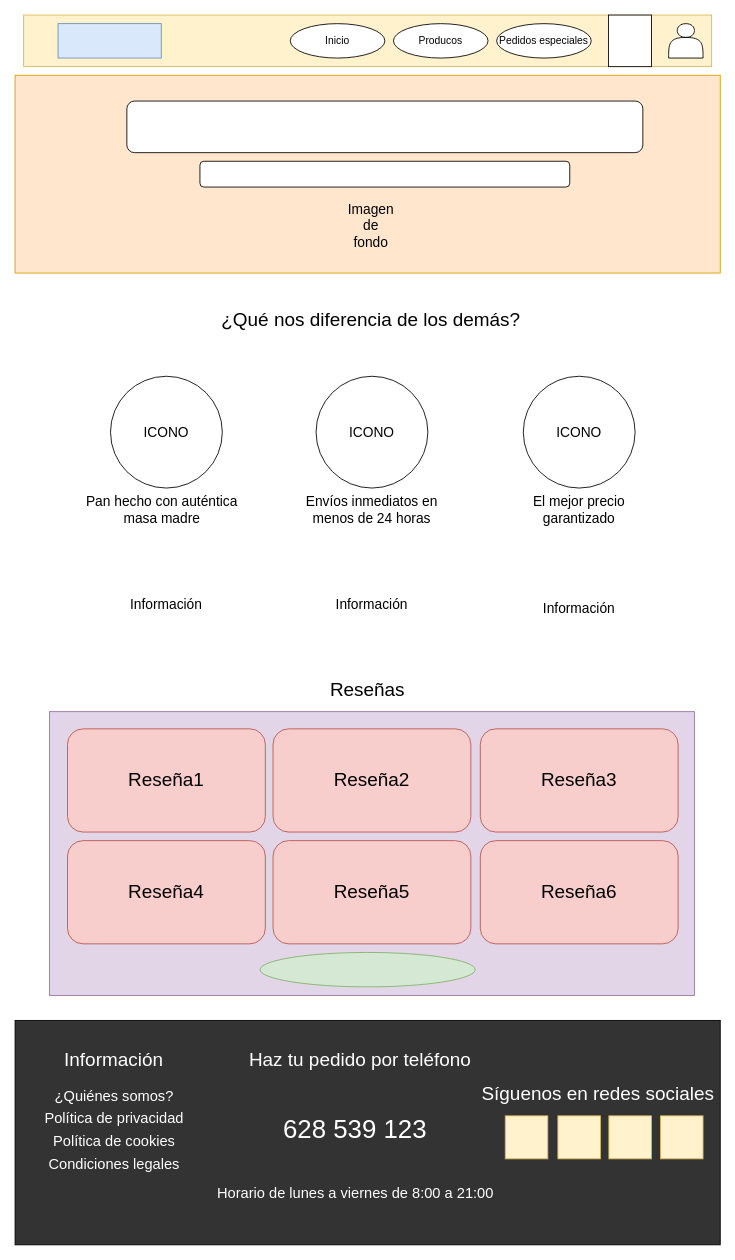
The diagram is 735 pixels wide and 1260 high, and some of its shapes have lost their labels. The shapes that lost their labels are listed below. From the top down, each one's box as (x1, y1, x2, y2) in pixels, then its label:
(57, 23, 161, 58): Logo
(608, 14, 651, 67): cesta
(126, 100, 643, 153): PANADERÍA PEDRÍN
(199, 160, 570, 187): El mejor pan artesano hecho con masa madre
(259, 952, 475, 987): Mostrar mas reseñas
